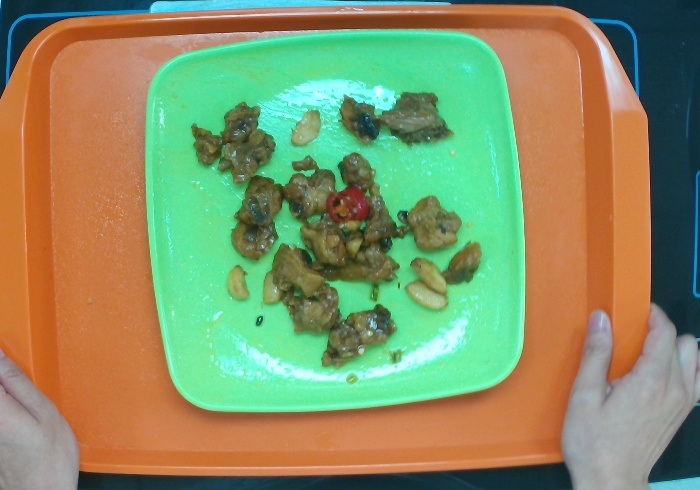ZNLD-Lv_Fang_Pan: (143, 25, 528, 414)
